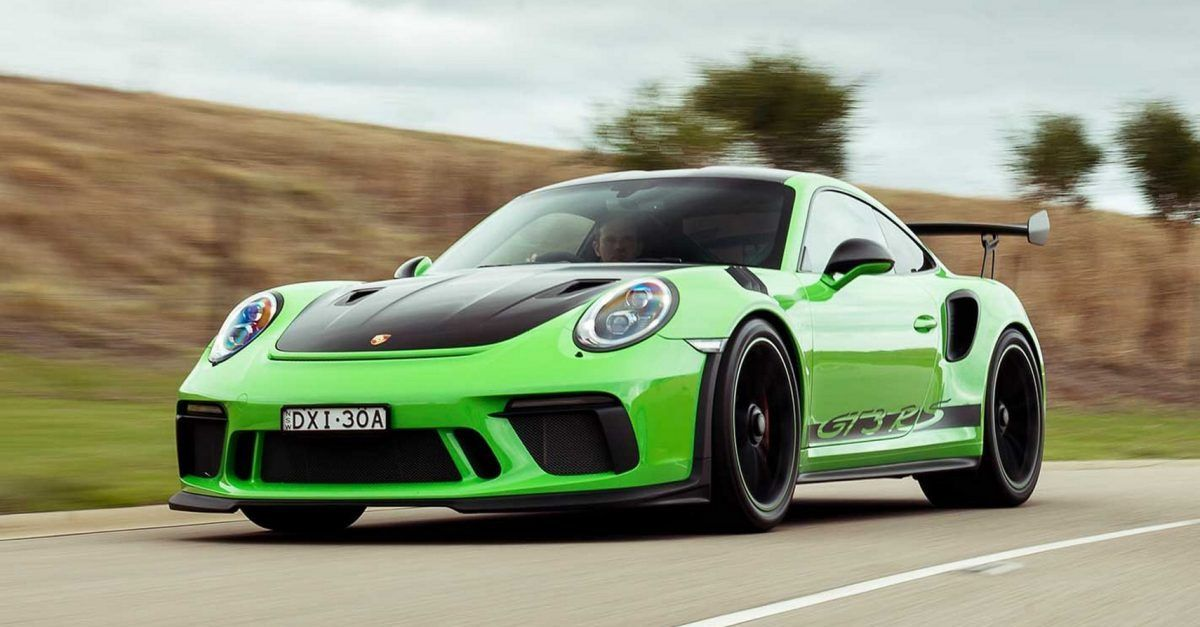headlight: (568, 269, 678, 349), (199, 278, 281, 361)
wheel: (918, 323, 1042, 503), (710, 310, 801, 519), (236, 510, 369, 537)
